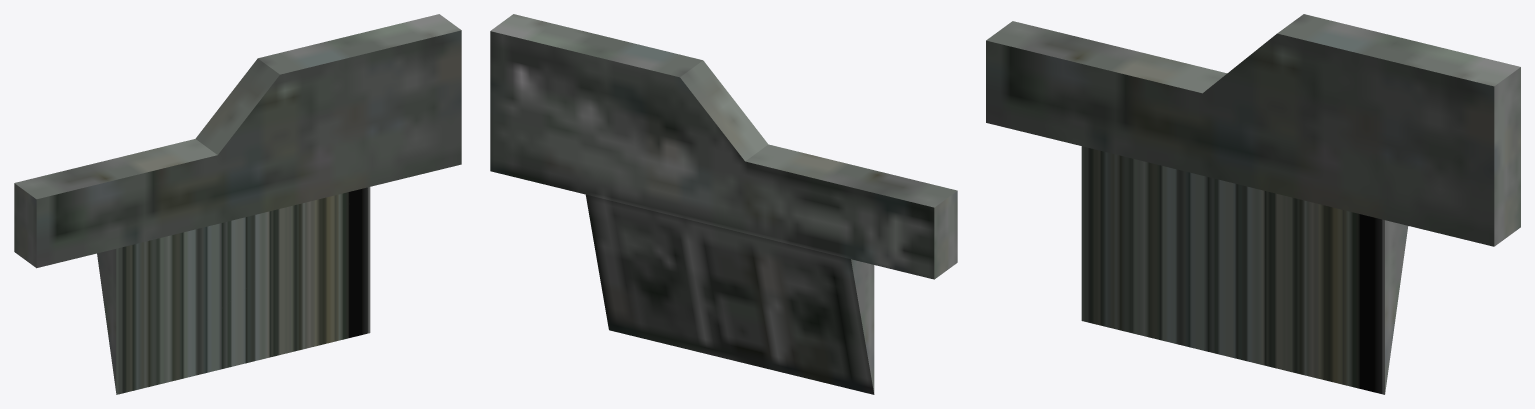
Rendered from xwing_debris_f_l0.fbx.
3 renders of one model, left to right at view 1: azimuth 30°, elevation 25°; view 2: azimuth 150°, elevation 25°; view 3: azimuth 330°, elevation 25°, orthographic. The views are drawn at different scales.
Parts seen in each view (by area): view 1: mesh_node; view 2: mesh_node; view 3: mesh_node.
Boxes of the visible parts, left/top/right/bottom form: mesh_node: left=14, top=14, right=461, bottom=394; mesh_node: left=490, top=14, right=957, bottom=394; mesh_node: left=986, top=14, right=1520, bottom=394.
Size of the model in its own units: 0.9976 by 0.6286 by 0.0907.
Materials: 1 (1 with a texture image).
